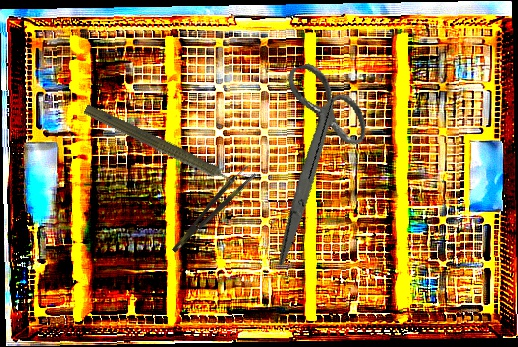Handpiece: (80, 100, 247, 197)
Iris Scissors: (222, 52, 399, 266)
Tissue Forceps: (165, 164, 257, 254)
